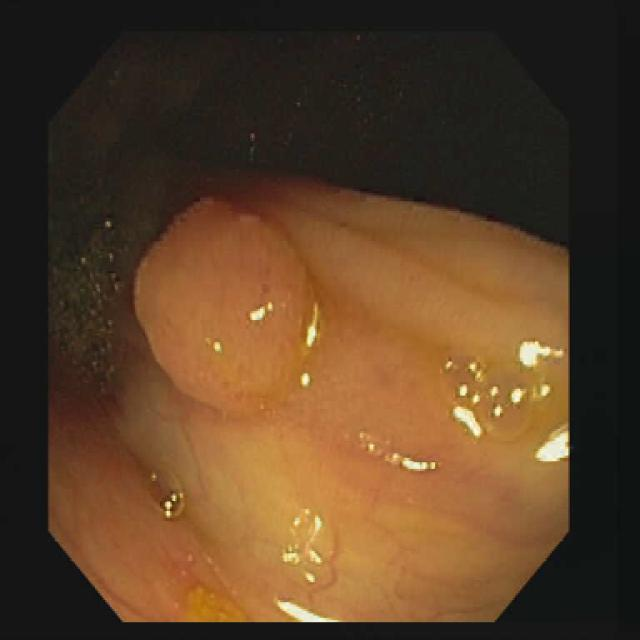tumor: (135, 198, 317, 411)
